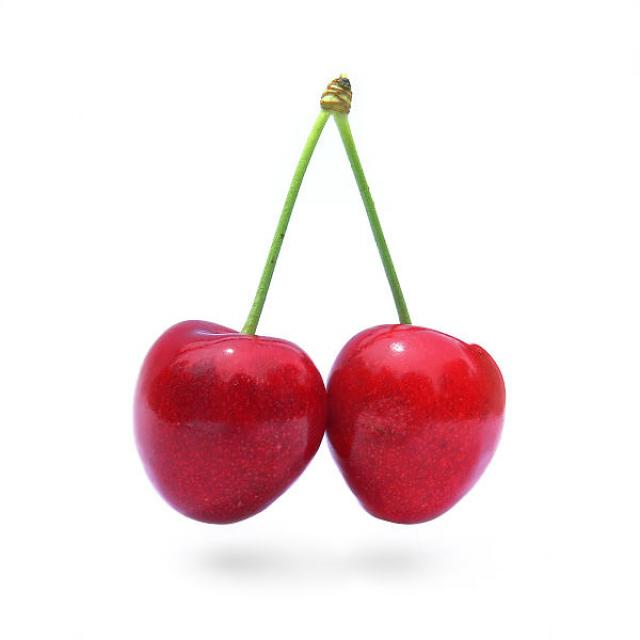cherry: (129, 76, 508, 528)
